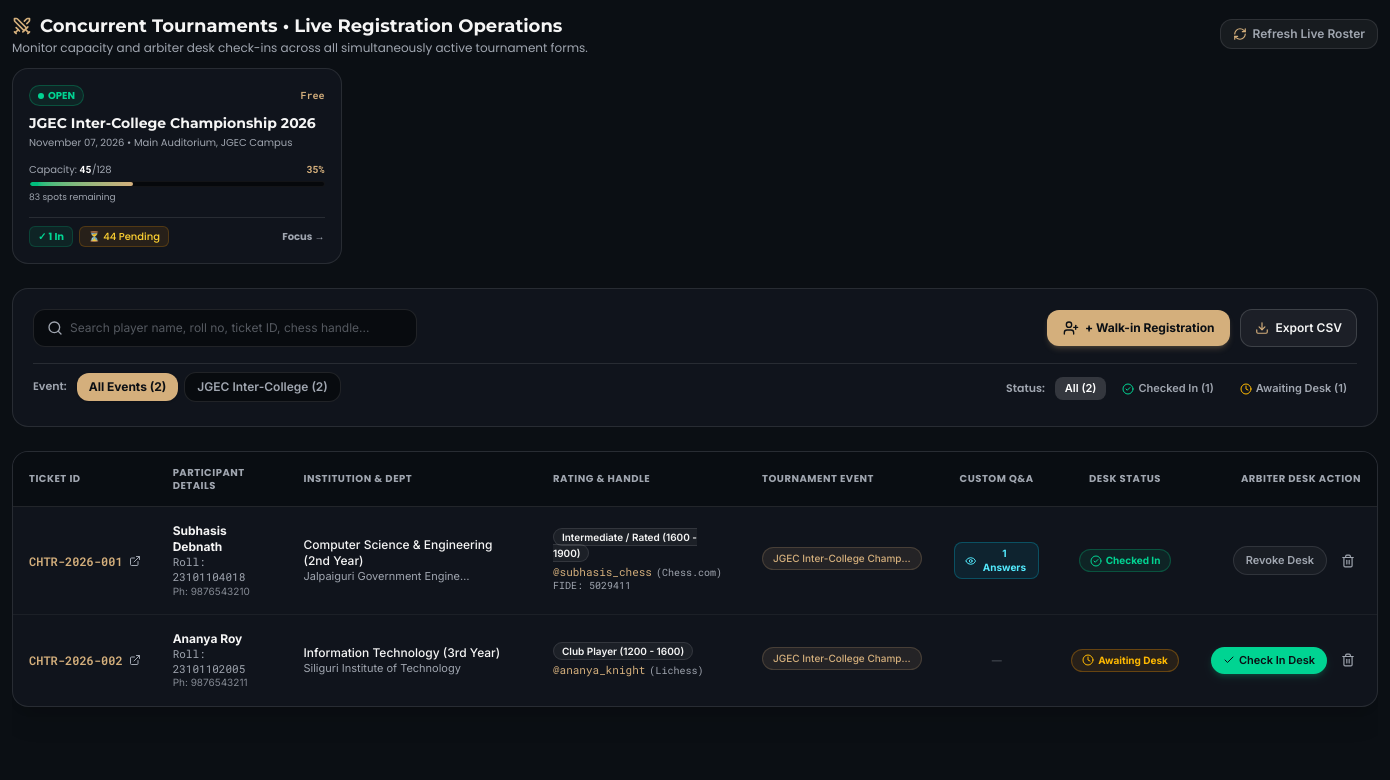
AdminParticipantsTab Component › filters participants based on status button (Checked In vs Awaiting Desk)
// Click "Checked In" status filter pill
Click the button "Checked In (1)". click: (1168,389)
box: [1112,377,1224,400]
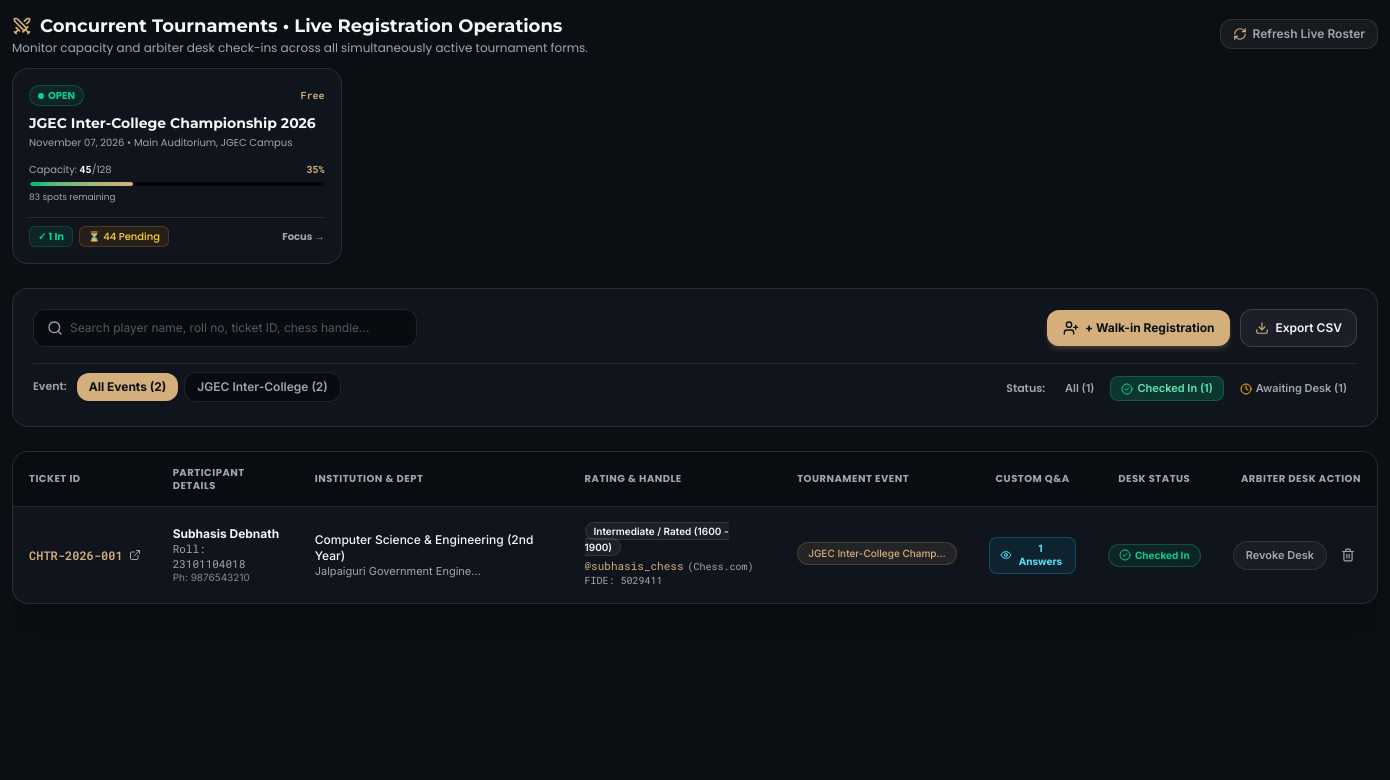
expect the text "Subhasis Debnath" is shown: met, box [173,526,283,542]
expect the text "Ananya Roy" is gone: met
